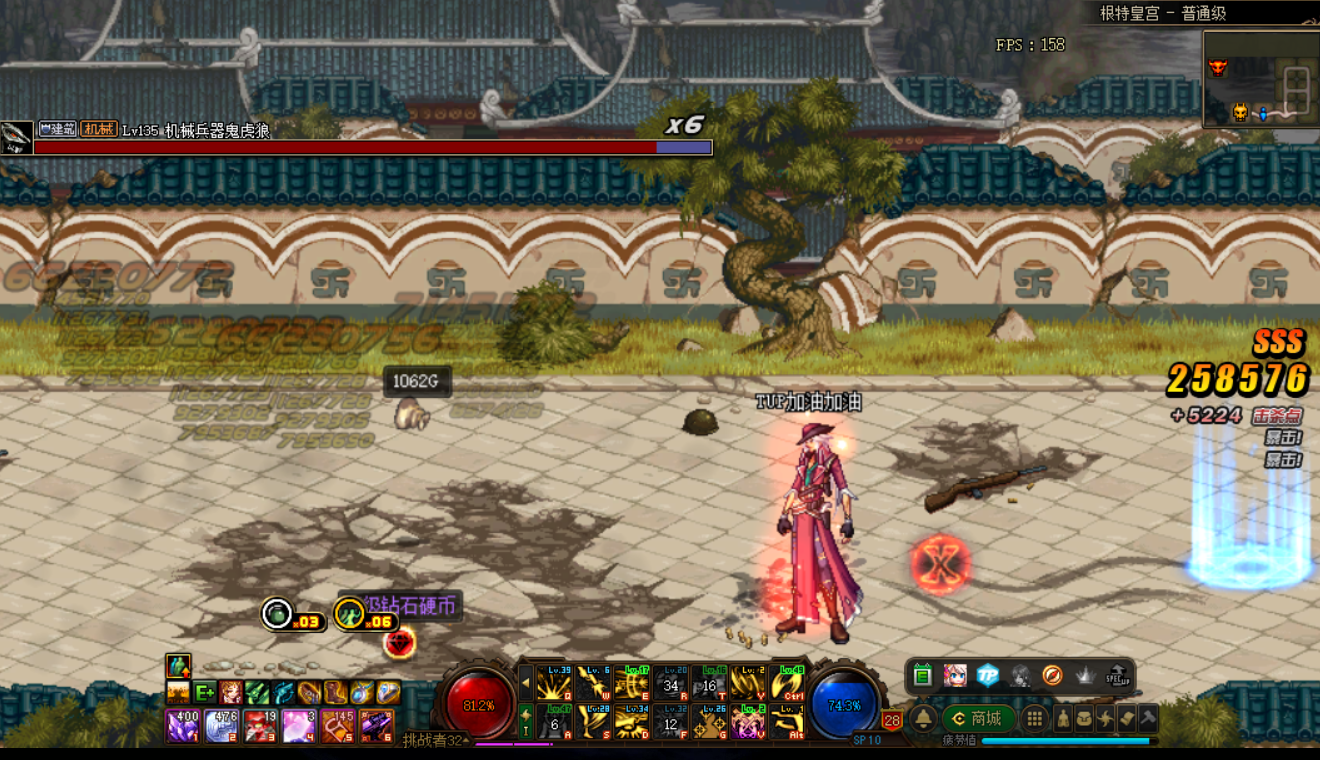warrior: (768, 413, 879, 646)
